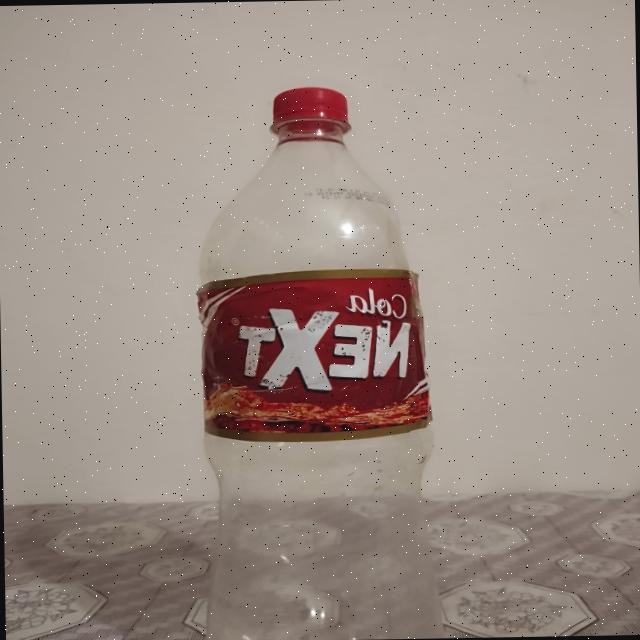bottle: (194, 85, 439, 640)
cap: (270, 88, 348, 124)
label: (195, 267, 432, 443)
